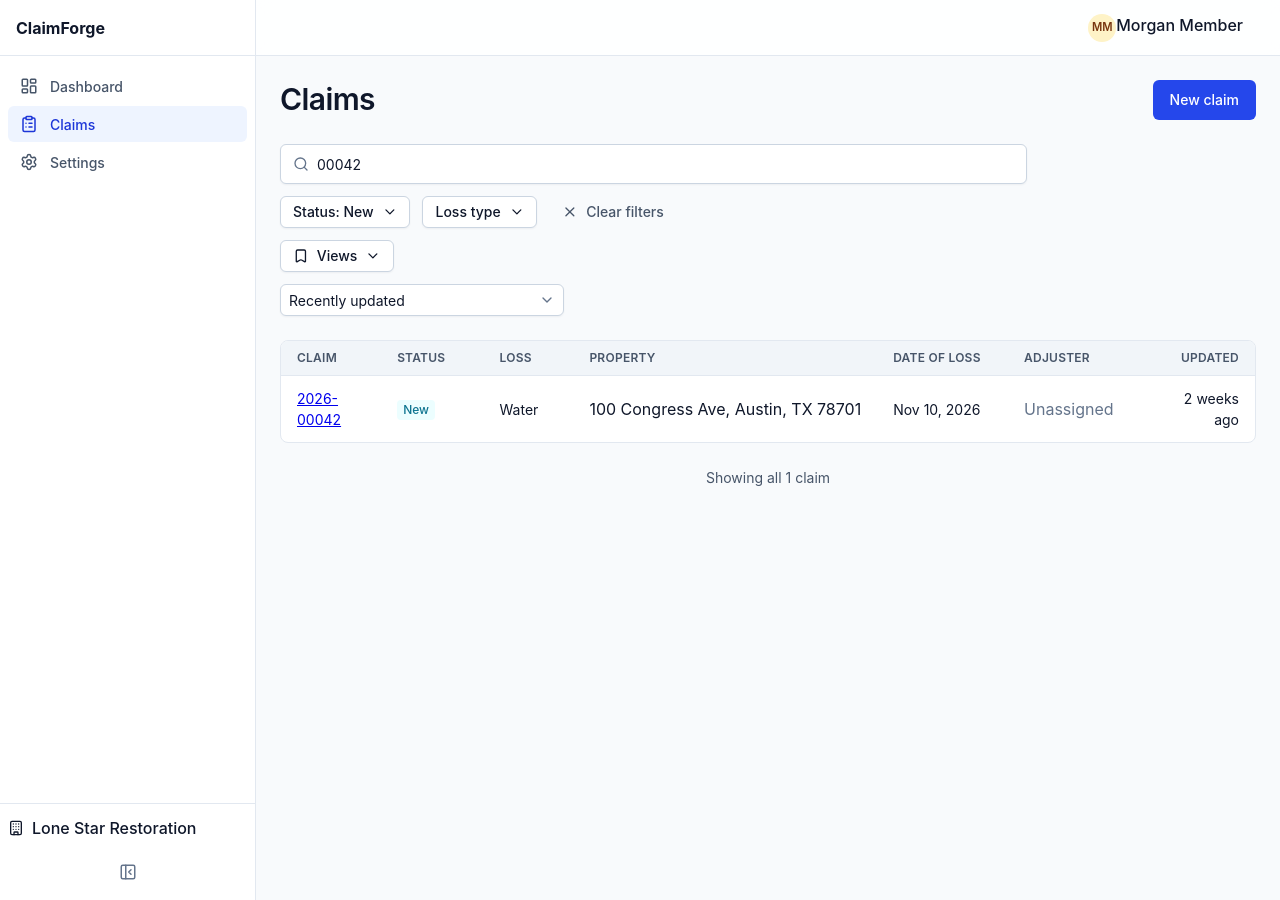
Test: filters › Clear filters brings everything back, and keeps the rest of the address
The image size is (1280, 900).
Click the button "Clear filters": click(613, 212) [549, 196, 677, 228]
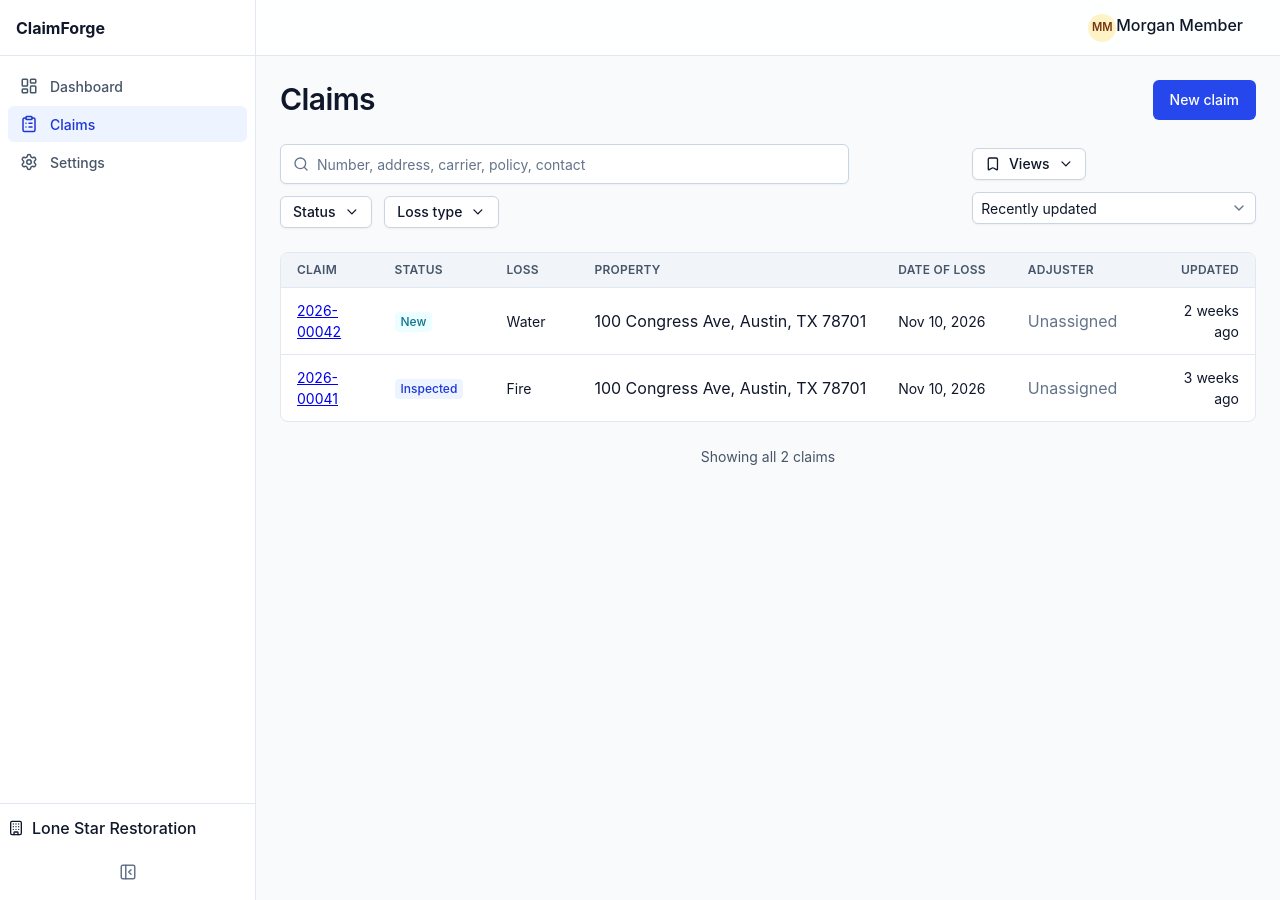
Check: the search field named "Search claims" is empty, box [317, 145, 836, 183]
